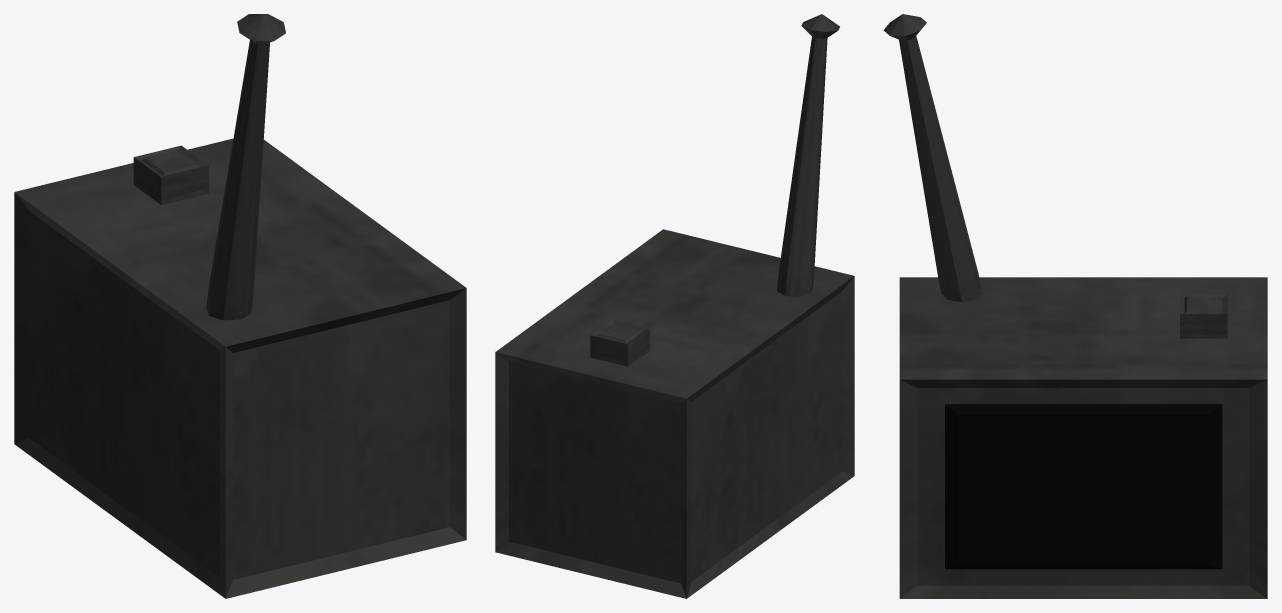
The model's file is LightningRod.fbx.
3 renders of one model, left to right at view 1: azimuth 30°, elevation 25°; view 2: azimuth 150°, elevation 25°; view 3: azimuth 270°, elevation 25°, orthographic. The views are drawn at different scales.
Visible parts, largest first — view 1: Box, Rod, Button; view 2: Box, Rod, Button; view 3: Box, Rod, Button.
Part boxes in pixels (bbox=[...]): Box: bbox=[14, 138, 466, 598]; Rod: bbox=[206, 14, 285, 320]; Button: bbox=[133, 145, 208, 205]; Box: bbox=[495, 229, 854, 598]; Rod: bbox=[777, 14, 839, 296]; Button: bbox=[590, 319, 649, 366]; Box: bbox=[899, 277, 1267, 598]; Rod: bbox=[883, 14, 982, 302]; Button: bbox=[1180, 294, 1227, 338].
Size of the model in its own units: 293 by 663 by 462.
Materials: 4 (3 with a texture image).
